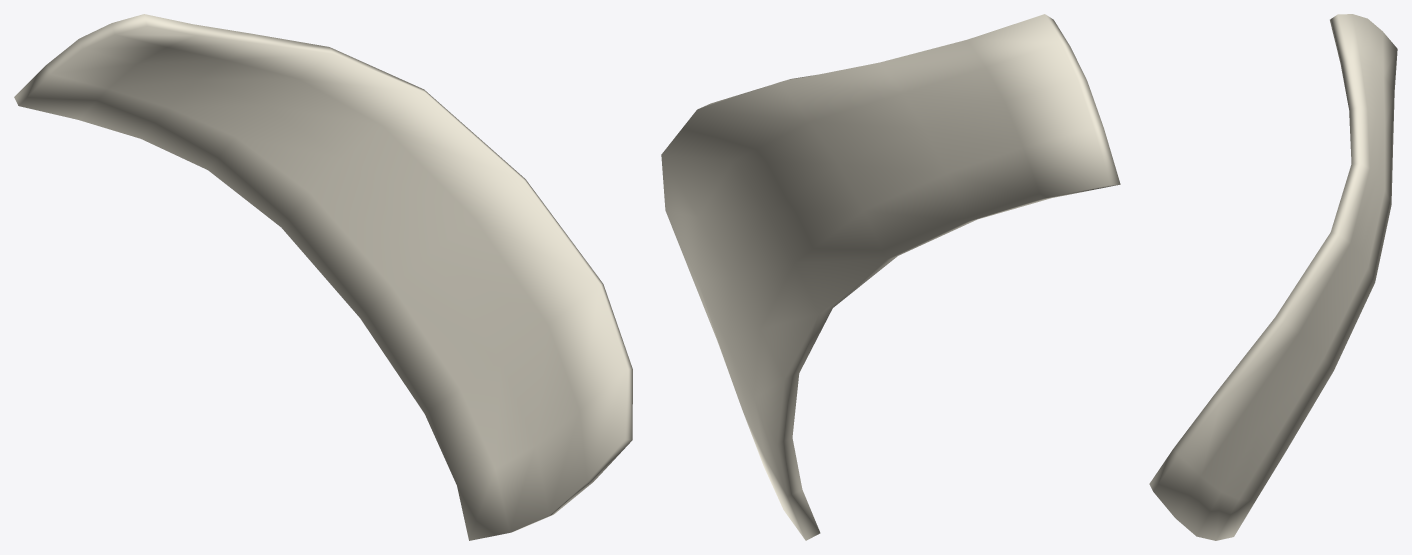
The picture shows the model from 3 angles, left to right: view 1: azimuth 30°, elevation 25°; view 2: azimuth 150°, elevation 25°; view 3: azimuth 270°, elevation 25°; orthographic projection. The views are drawn at different scales.
Parts seen in each view (by area): view 1: ZA_98c4f79a5e376f31; view 2: ZA_98c4f79a5e376f31; view 3: ZA_98c4f79a5e376f31.
Boxes of the visible parts, box(x1,y1,x2,y2) form: ZA_98c4f79a5e376f31: box(14, 14, 632, 540); ZA_98c4f79a5e376f31: box(661, 14, 1120, 540); ZA_98c4f79a5e376f31: box(1149, 14, 1397, 540).
Size of the model in its own units: 0.0204 by 0.0219 by 0.0117.
